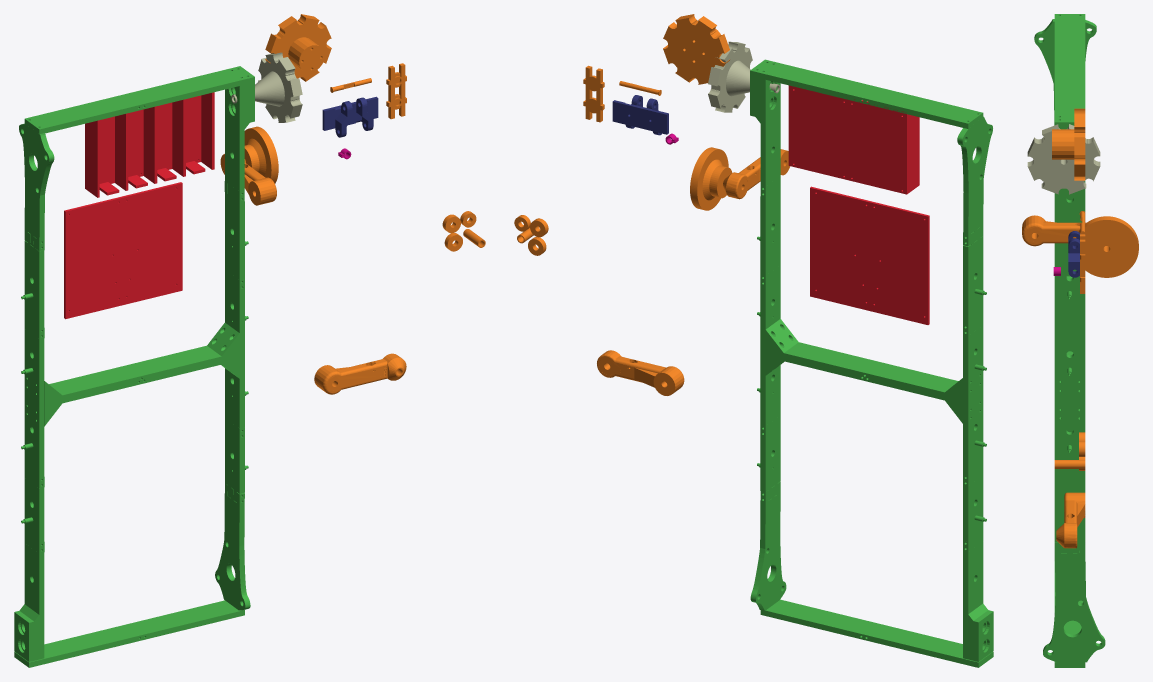
File: tinker.obj
3 renders of one model, left to right at view 1: azimuth 30°, elevation 25°; view 2: azimuth 150°, elevation 25°; view 3: azimuth 270°, elevation 25°, orthographic. The views are drawn at different scales.
Visible parts, largest first — view 1: obj_21, obj_20, obj_4, obj_1, obj_7, obj_10, obj_12, obj_13, obj_14, obj_22, obj_5, obj_6 (+13 smaller); view 2: obj_21, obj_20, obj_4, obj_10, obj_1, obj_7, obj_12, obj_13, obj_14, obj_6, obj_5, obj_22 (+13 smaller); view 3: obj_6, obj_12, obj_30, obj_22, obj_16, obj_15, obj_3, obj_10, obj_25, obj_24, obj_0, obj_14 (+5 smaller).
Part boxes in pixels (x1,y1,x2,y2): obj_21: (64,182,182,319); obj_20: (85,92,214,197); obj_4: (21,318,44,485); obj_1: (14,532,44,661); obj_7: (125,323,239,382); obj_10: (265,14,331,81); obj_12: (215,483,250,610); obj_13: (19,123,54,251); obj_14: (224,82,254,202); obj_22: (231,52,302,122); obj_5: (44,364,147,426); obj_6: (225,269,248,436); obj_21: (810,186,929,324); obj_20: (788,85,919,194); obj_4: (963,314,986,483); obj_10: (663,14,729,84); obj_1: (963,531,993,661); obj_7: (765,319,880,379); obj_12: (750,481,786,610); obj_13: (957,116,992,246); obj_14: (750,76,780,197); obj_6: (757,265,780,434); obj_5: (859,360,962,423); obj_22: (708,41,779,112); obj_6: (1054,322,1085,486); obj_12: (1043,542,1105,662); obj_30: (1076,216,1138,277); obj_22: (1027,124,1100,194); obj_16: (1054,243,1085,332); obj_15: (1054,62,1085,127); obj_3: (1054,14,1085,67); obj_10: (1052,108,1085,180); obj_25: (1022,215,1086,246); obj_24: (1056,492,1085,548); obj_0: (1054,475,1085,552); obj_14: (1054,127,1085,222).
Bounding box in the file's own units: 894 × 1067 × 192.
